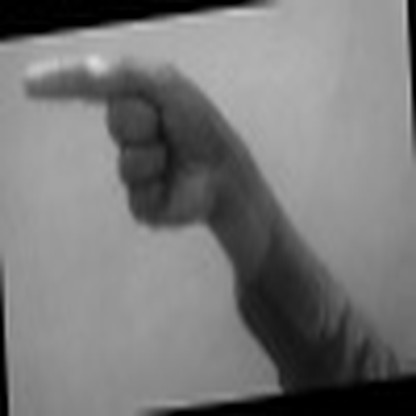g: (17, 51, 250, 233)
